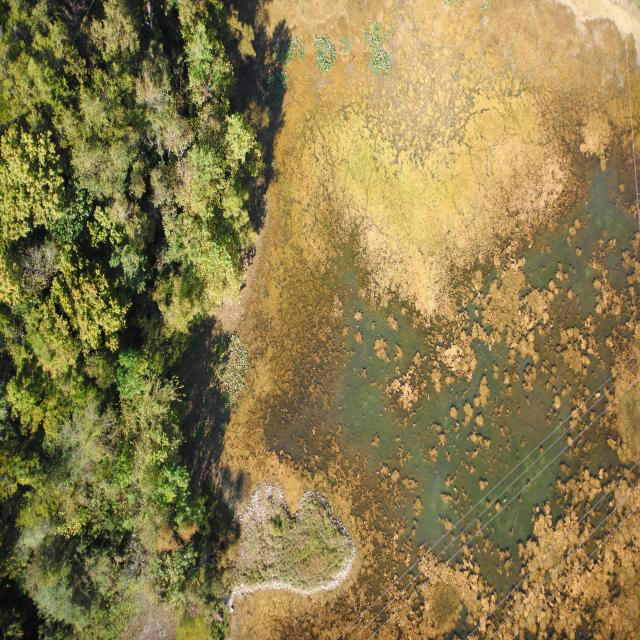Area of Interest: (6, 9, 236, 628)
